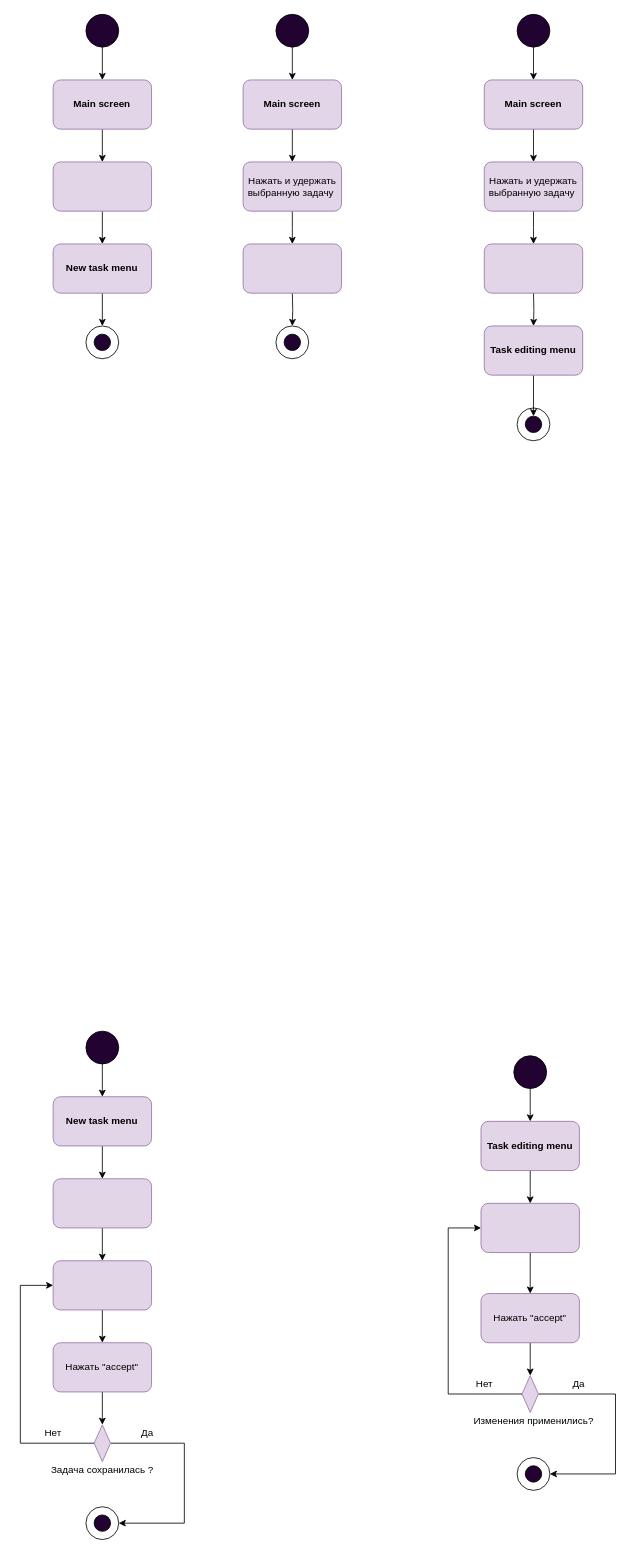
Some shapes in this 636 by 1554 pixel diagram are drawn without their labels. The centre of each missing label's shape, as x and y in pixels:
Выбрать тип задачи: point 102,1203
Задать условия задачи: point 102,1285
Изменить условия задачи: point 529,1228
Нажать "+": point 102,186
Нажать "delete": point 292,268
Нажать "edit": point 533,268
